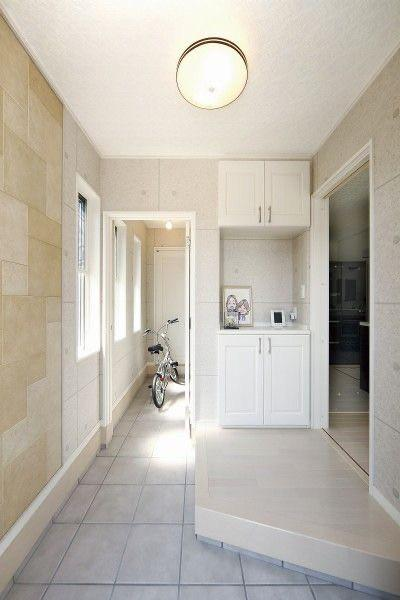floor: (0, 374, 380, 599)
safe: (196, 365, 399, 562)
